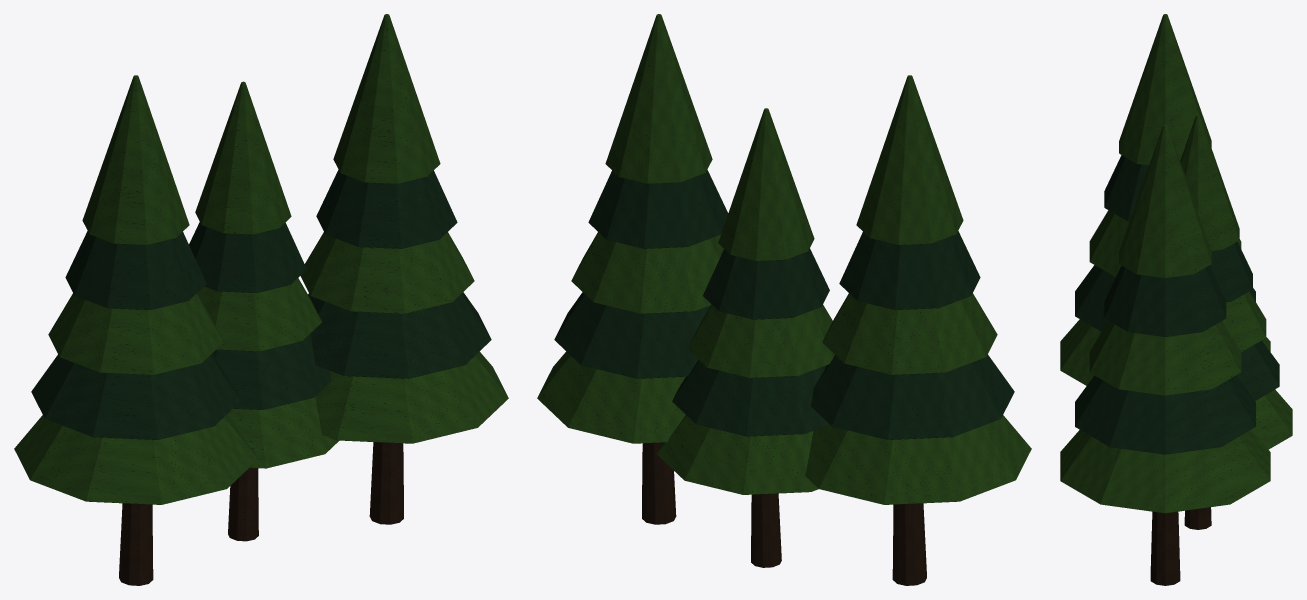
File: PROP-718FCA933D52_lod1.glb
3 views of the same model, side by side, from view 1: azimuth 30°, elevation 25°; view 2: azimuth 150°, elevation 25°; view 3: azimuth 270°, elevation 25° (orthographic). The views are drawn at different scales.
Parts seen in each view (by area): view 1: layered_conifer_crown.024, layered_conifer_crown.025, trunk.013; view 2: layered_conifer_crown.024, layered_conifer_crown.025, trunk.013; view 3: layered_conifer_crown.024, layered_conifer_crown.025, trunk.013.
Part boxes in pixels (box(x1,y1,x2,y2)): layered_conifer_crown.024: box(14, 14, 508, 504); layered_conifer_crown.025: box(31, 170, 491, 439); trunk.013: box(119, 442, 403, 585); layered_conifer_crown.024: box(537, 14, 1031, 504); layered_conifer_crown.025: box(554, 170, 1014, 439); trunk.013: box(642, 442, 926, 585); layered_conifer_crown.024: box(1060, 14, 1292, 513); layered_conifer_crown.025: box(1075, 155, 1279, 454); trunk.013: box(1150, 507, 1211, 585).
Bounding box in the file's own units: 7.39 × 7.67 × 3.56.
Materials: 3 (3 with a texture image).
